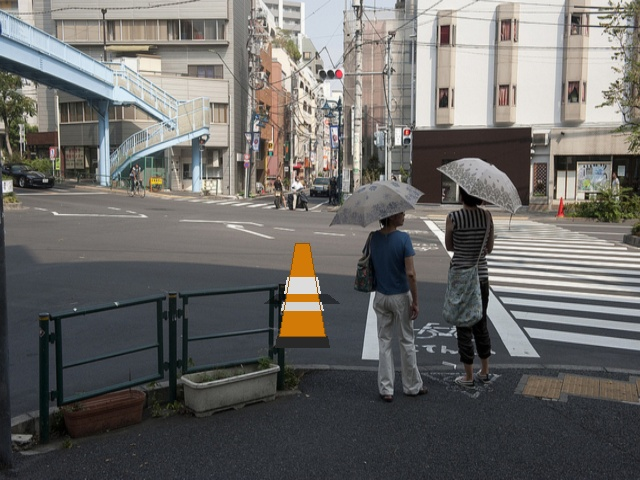traffic-cone: (275, 243, 329, 347)
